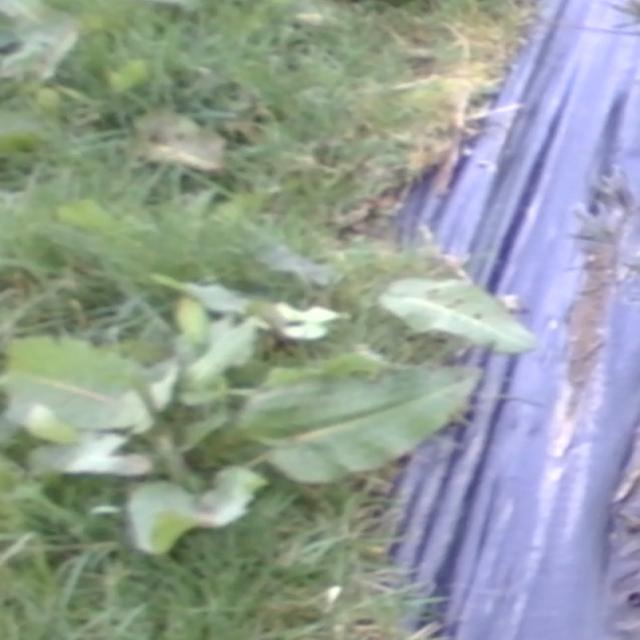organic waste: (19, 269, 532, 613), (71, 29, 168, 89)
